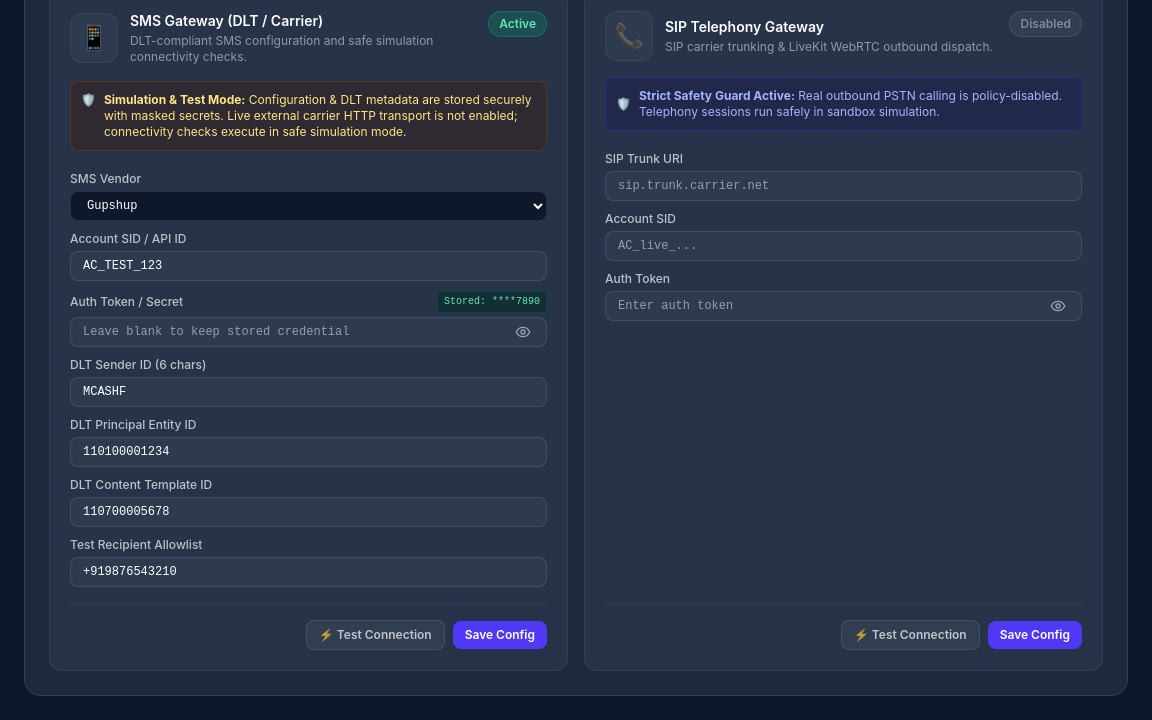
Test case: P2-06: Settings Compliance Audit Trail & SMS_GATEWAY › SMS_GATEWAY integration settings › preserves stored secrets by omitting blank secret fields when saving SMS_GATEWAY
(page scrolled)
In the field labelled "DLT Sender ID (6 chars)": [308, 392] box [70,377,547,407], type "NEWMCF"
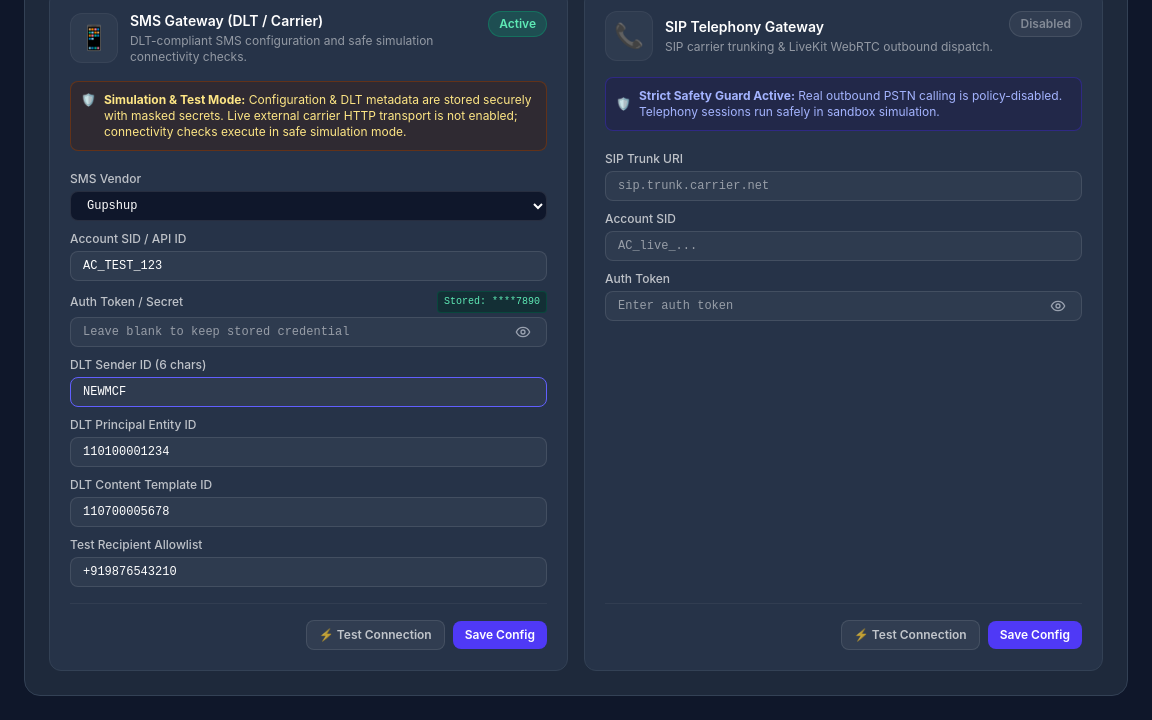
Click the button "Save Config" below "DLT Content Template ID": [500, 635] box [453,621,547,649]
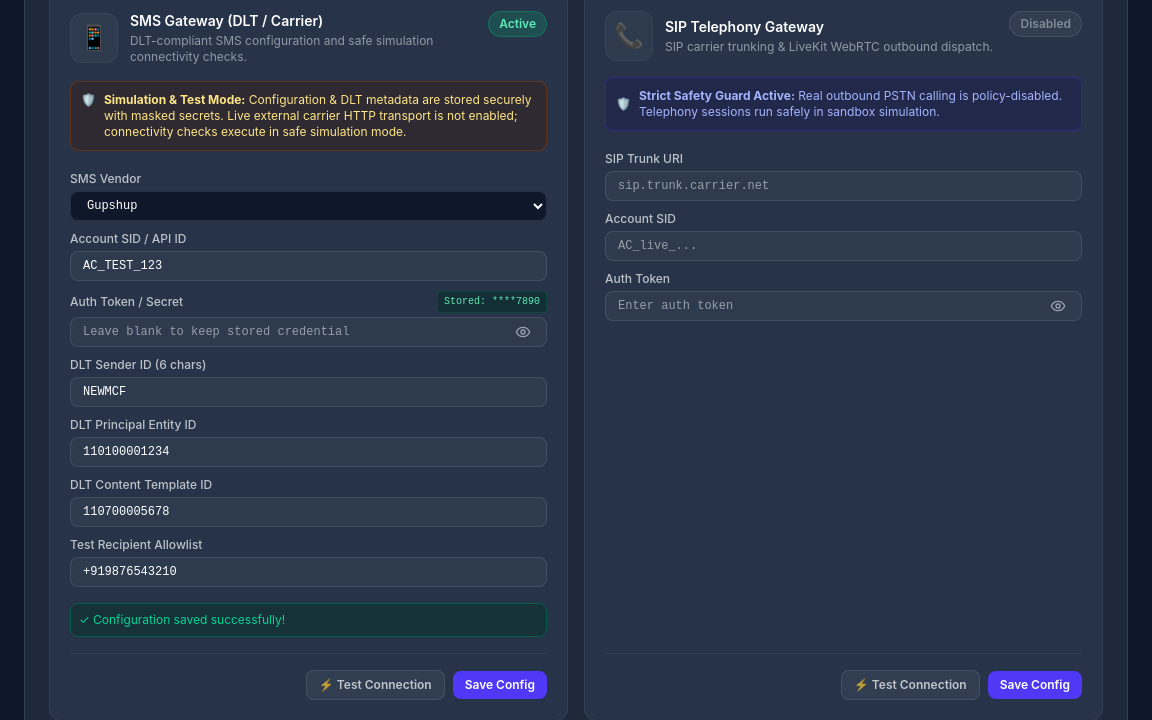
Expected: the message shows "Configuration saved successfully", [93,612,285,627]
